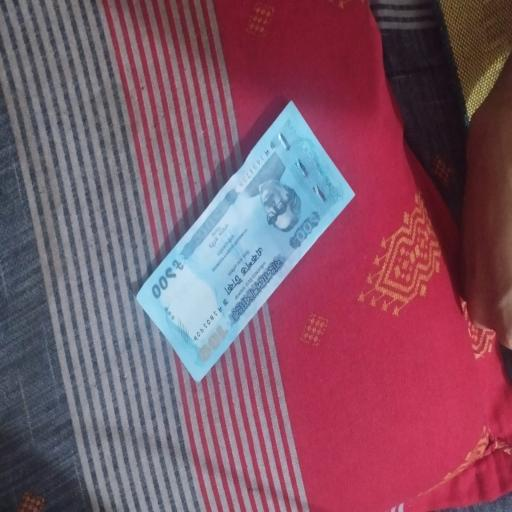100taka: (140, 99, 358, 389)
